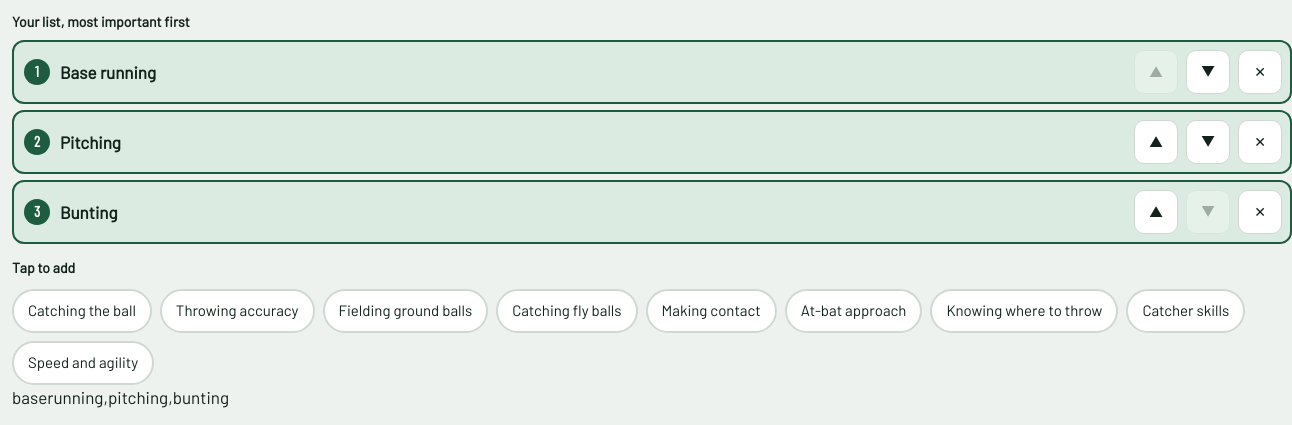
Scenario: NeedsRanker › reorders with the arrows and puts a removed skill back in the bank
Click the button named "Move Bunting up" at point(1156, 212), box x1=1134 y1=190 x2=1178 y2=234
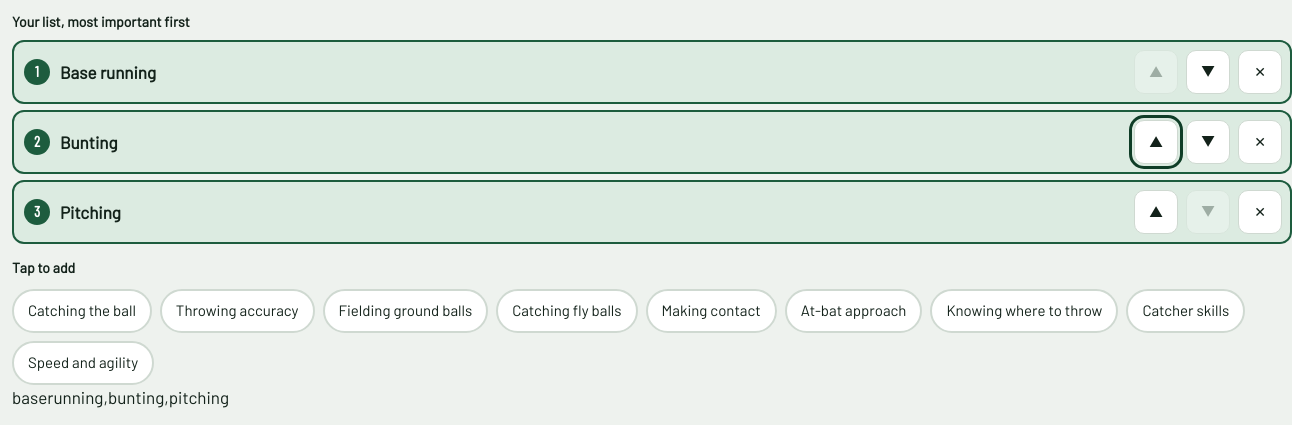
Check: the text with test id "value" reads "baserunning,bunting,pitching", box x1=12 y1=387 x2=229 y2=407
Click the button named "Move Bunting up" at point(1156, 142), box x1=1134 y1=120 x2=1178 y2=164
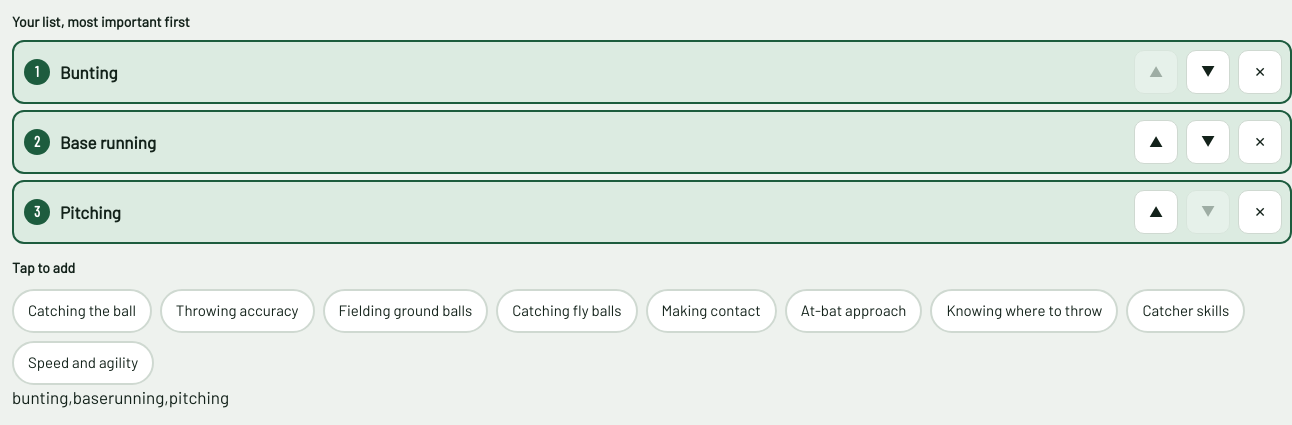
Check: the button named "Move Bunting up" is disabled, box x1=1134 y1=50 x2=1178 y2=94
Check: the text with test id "value" reads "bunting,baserunning,pitching", box x1=12 y1=387 x2=229 y2=407
Click the button "✕" in the row of "Base running" at point(1260, 142), box x1=1238 y1=120 x2=1282 y2=164
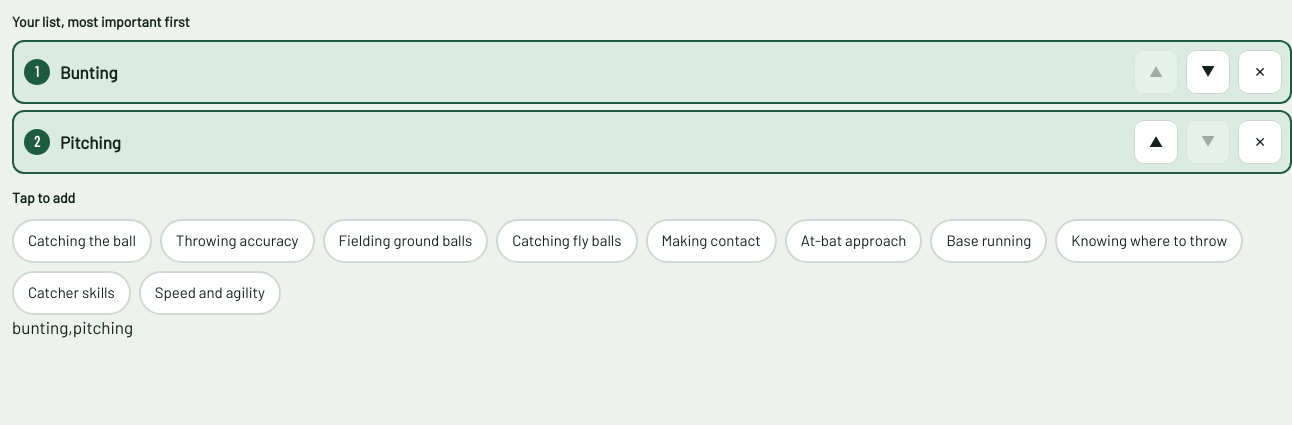
Check: the button "Base running" is shown, box x1=930 y1=219 x2=1047 y2=263
Check: the text with test id "value" reads "bunting,pitching", box x1=12 y1=317 x2=133 y2=337
